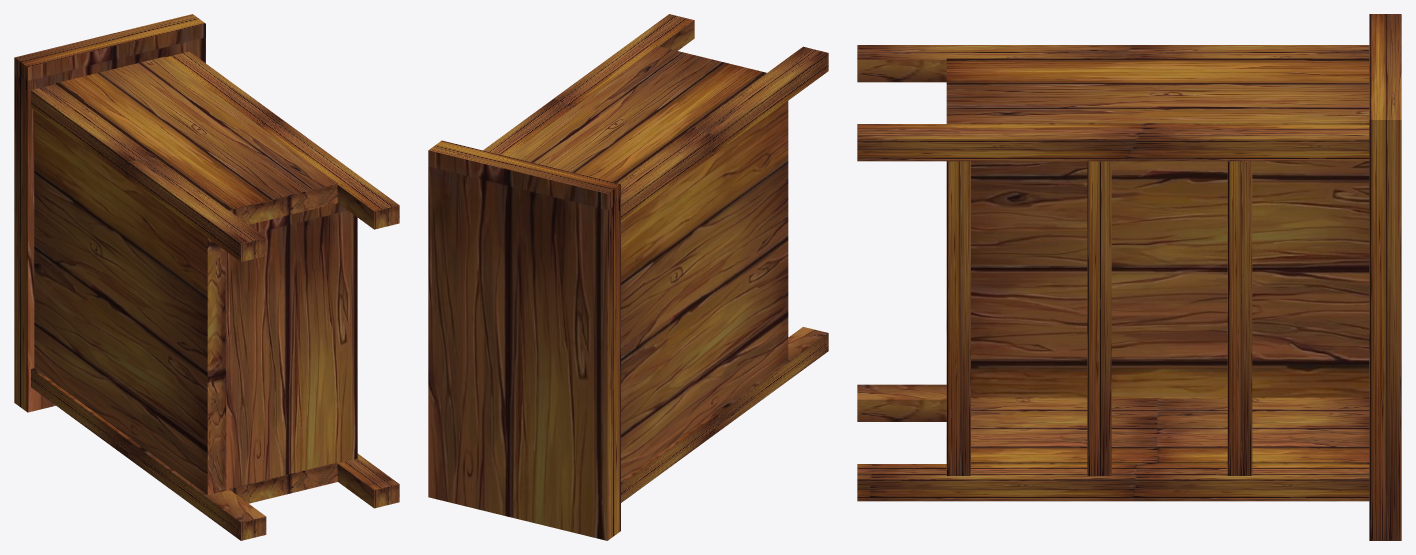
The model's file is Bookshelf.fbx.
3 views of the same model, side by side, from view 1: azimuth 30°, elevation 25°; view 2: azimuth 150°, elevation 25°; view 3: azimuth 270°, elevation 25° (orthographic). The views are drawn at different scales.
Parts seen in each view (by area): view 1: Bookshelf_Back.001; view 2: Bookshelf_Back.001; view 3: Bookshelf_Back.001.
Boxes of the visible parts, box(x1,y1,x2,y2) form: Bookshelf_Back.001: box(14, 14, 399, 540); Bookshelf_Back.001: box(428, 14, 828, 540); Bookshelf_Back.001: box(857, 14, 1401, 540).
Size of the model in its own units: 535 by 991 by 1161.
